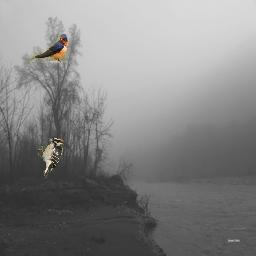Swallow: (29, 34, 68, 63)
Woodpecker: (38, 138, 64, 178)
